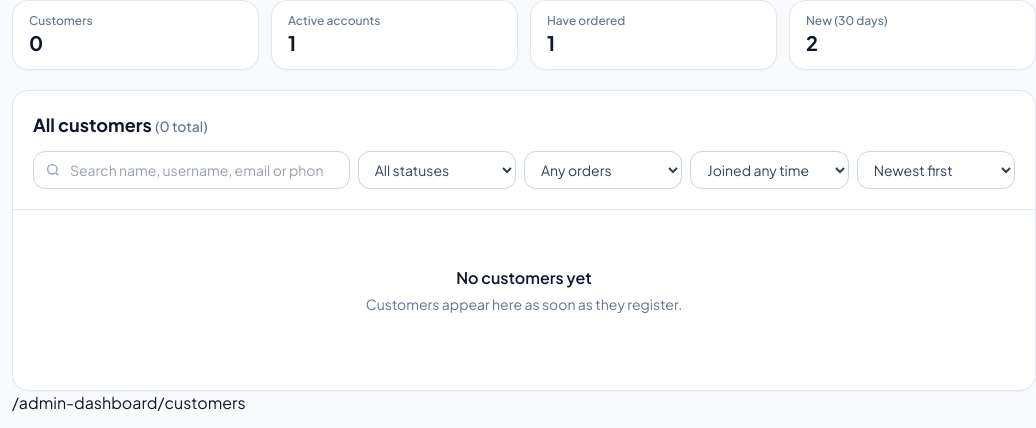
it: AdminCustomersPage › shows empty states (no customers vs no matches)
Check: the element with test id "customers-empty" shows "No customers yet", box [456, 267, 592, 288]
Select "No orders yet" in the 2nd dropdown named "Orders". click: (603, 170)
box: [524, 151, 682, 189]
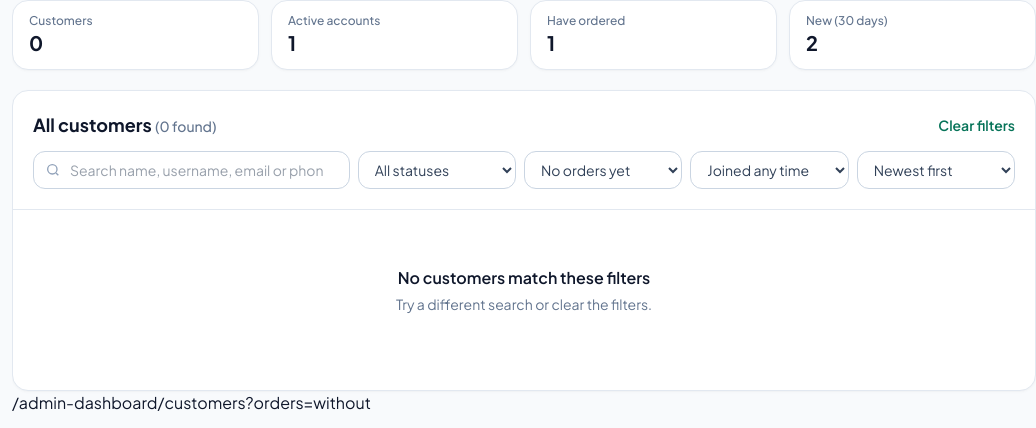
Check: the element with test id "customers-empty" shows "No customers match these filters", box [398, 267, 650, 288]
